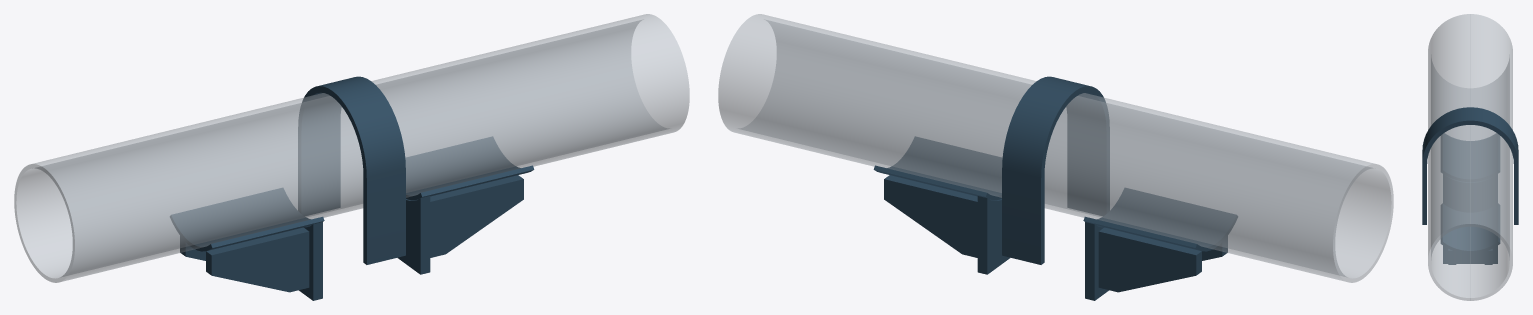
Rendered from TS-669.00.00-opora-dn108-ris1.glb.
3 renders of one model, left to right at view 1: azimuth 30°, elevation 25°; view 2: azimuth 150°, elevation 25°; view 3: azimuth 270°, elevation 25°, orthographic. The views are drawn at different scales.
Parts seen in each view (by area): view 1: truba, homut_9, upor_8, upor_6, upor_4, upor_2, upor_1, upor_5; view 2: truba, homut_9, upor_8, upor_7, upor_4, upor_3, upor_1, upor_5; view 3: truba, homut_9, upor_4, upor_8, upor_5, upor_1, upor_2, upor_3.
Boxes of the visible parts, <box> form: truba: <box>14,14,689,282</box>; homut_9: <box>298,76,405,264</box>; upor_8: <box>170,188,324,251</box>; upor_6: <box>206,227,309,292</box>; upor_4: <box>405,136,534,200</box>; upor_2: <box>430,175,523,257</box>; upor_1: <box>397,196,430,274</box>; upor_5: <box>299,222,322,300</box>; truba: <box>718,14,1393,282</box>; homut_9: <box>1002,76,1109,264</box>; upor_8: <box>1083,188,1237,251</box>; upor_7: <box>1098,227,1201,292</box>; upor_4: <box>873,136,1002,200</box>; upor_3: <box>884,175,977,257</box>; upor_1: <box>977,196,1010,274</box>; upor_5: <box>1085,222,1108,300</box>; truba: <box>1428,14,1512,300</box>; homut_9: <box>1422,107,1518,224</box>; upor_4: <box>1440,204,1500,253</box>; upor_8: <box>1441,133,1499,181</box>; upor_5: <box>1443,174,1497,212</box>; upor_1: <box>1443,246,1497,263</box>; upor_2: <box>1448,249,1456,264</box>; upor_3: <box>1484,249,1492,264</box>.
Bounding box in the file's own units: 630 × 182 × 122.
